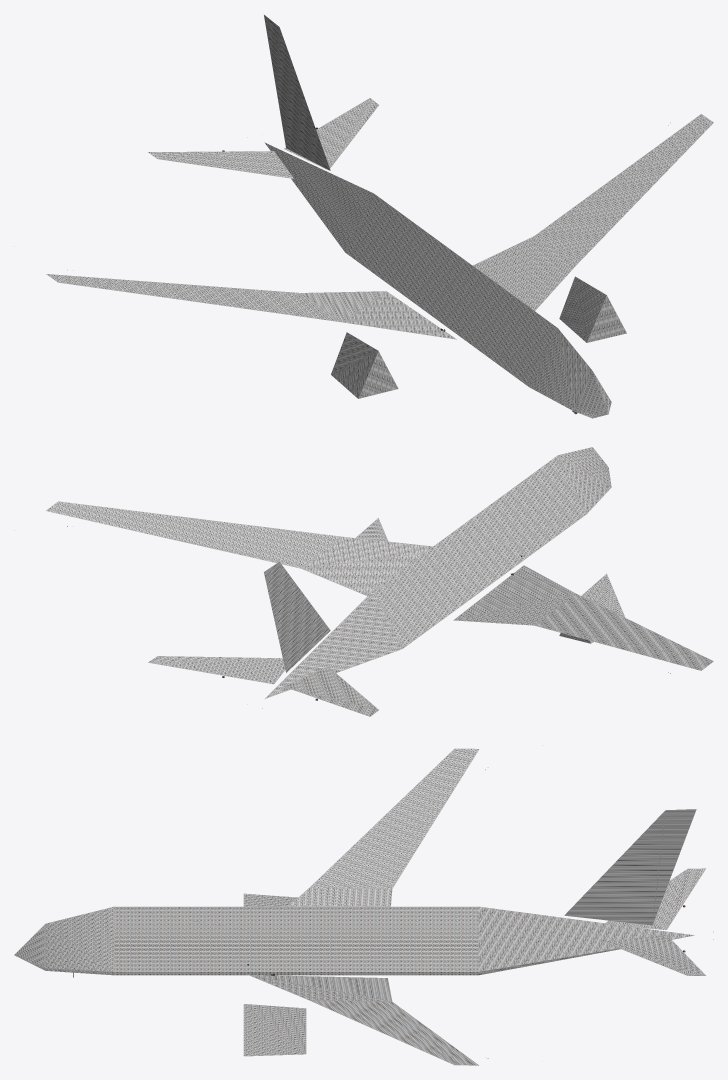
The model's file is UTT_Boeing_787-8_GE_LOD1.gltf.
The picture shows the model from 3 angles, top to bottom: view 1: azimuth 30°, elevation 25°; view 2: azimuth 150°, elevation 25°; view 3: azimuth 270°, elevation 25°; orthographic projection.
Parts seen in each view (by area): view 1: fuse_LOD_015; view 2: fuse_LOD_015; view 3: fuse_LOD_015.
Boxes of the visible parts, bbox=[...] form: fuse_LOD_015: bbox=[46, 15, 713, 418]; fuse_LOD_015: bbox=[46, 447, 713, 716]; fuse_LOD_015: bbox=[14, 748, 705, 1065].
Size of the model in its own units: 60.63 by 16.28 by 56.62.
